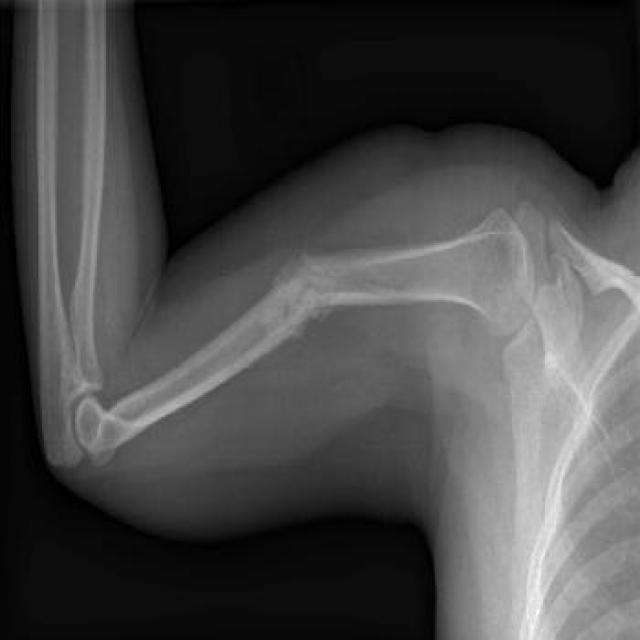Fracture: (271, 227, 332, 354)
